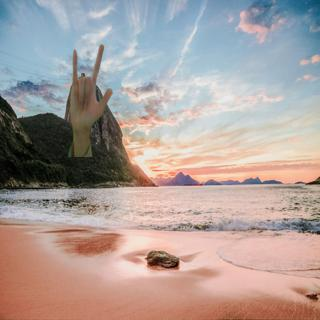ILY: (61, 40, 116, 132)
